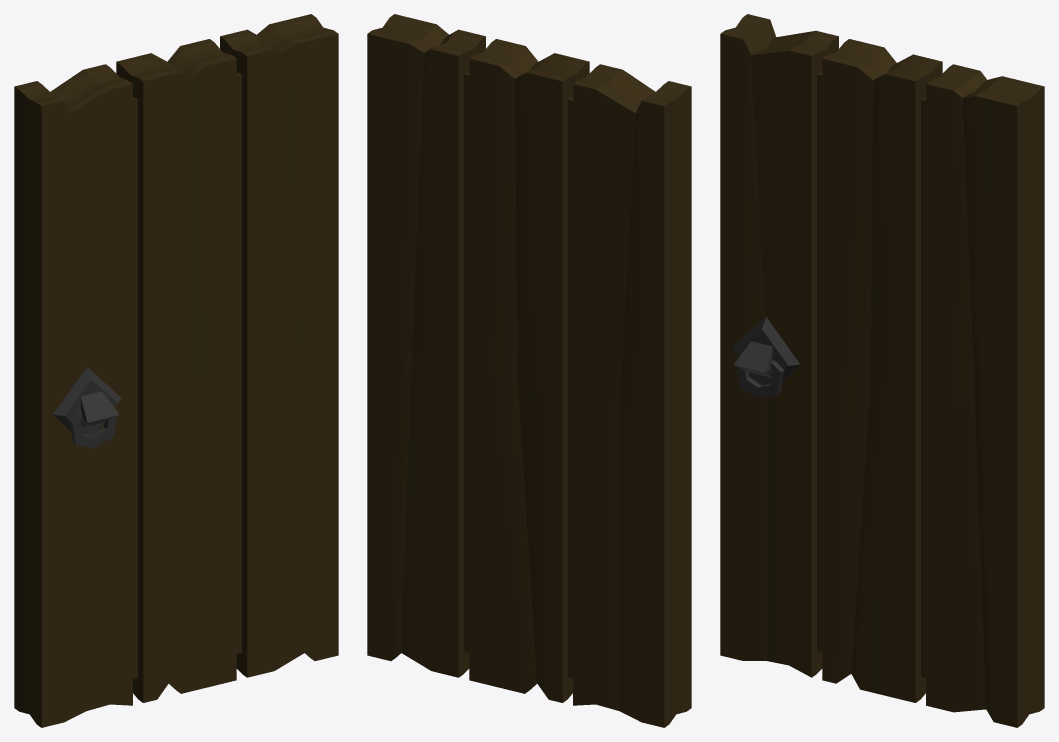
The model's file is SM_Door.fbx.
3 views of the same model, side by side, from view 1: azimuth 30°, elevation 25°; view 2: azimuth 150°, elevation 25°; view 3: azimuth 330°, elevation 25° (orthographic).
Parts seen in each view (by area): view 1: door, handle, knob; view 2: door; view 3: door, handle, knob.
Part boxes in pixels (<box>): door: <box>14,14,338,727</box>; handle: <box>53,367,121,435</box>; knob: <box>69,410,117,448</box>; door: <box>367,14,691,727</box>; door: <box>720,14,1044,727</box>; handle: <box>732,317,800,385</box>; knob: <box>736,360,784,398</box>.
Bounding box in the file's own units: 1 × 2 × 0.2544.
